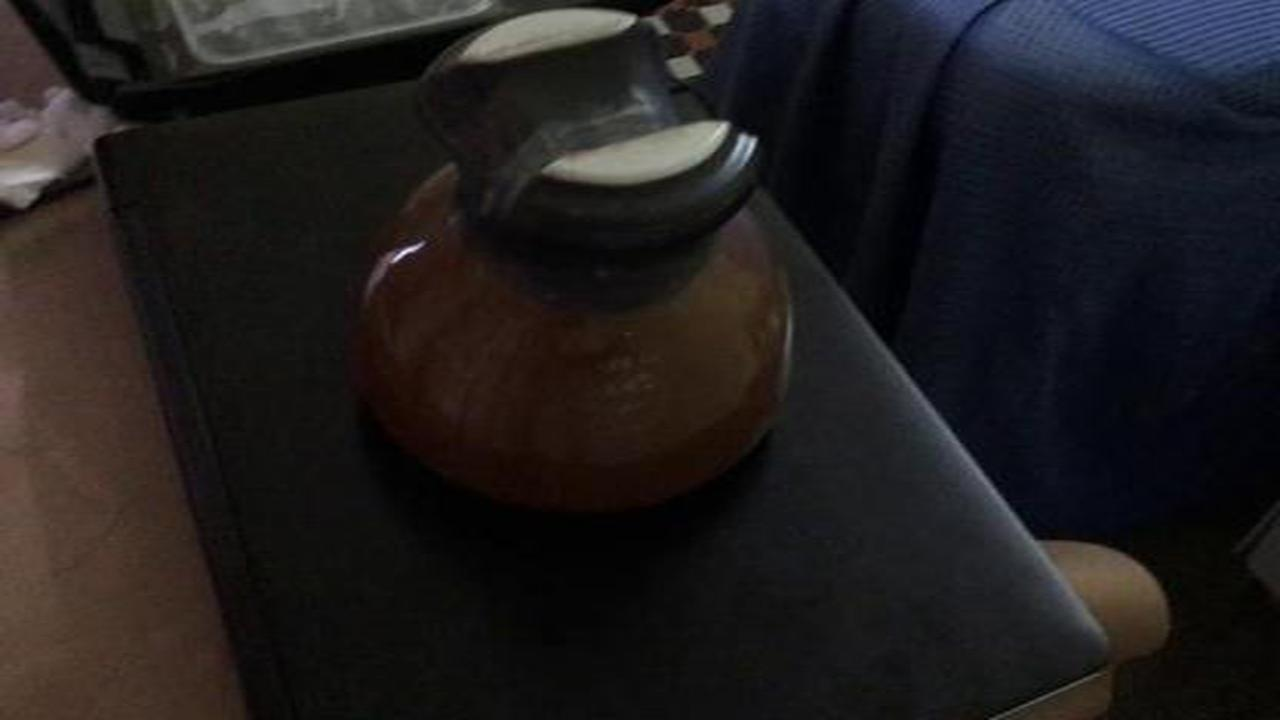insulator_pin: (332, 6, 797, 535)
